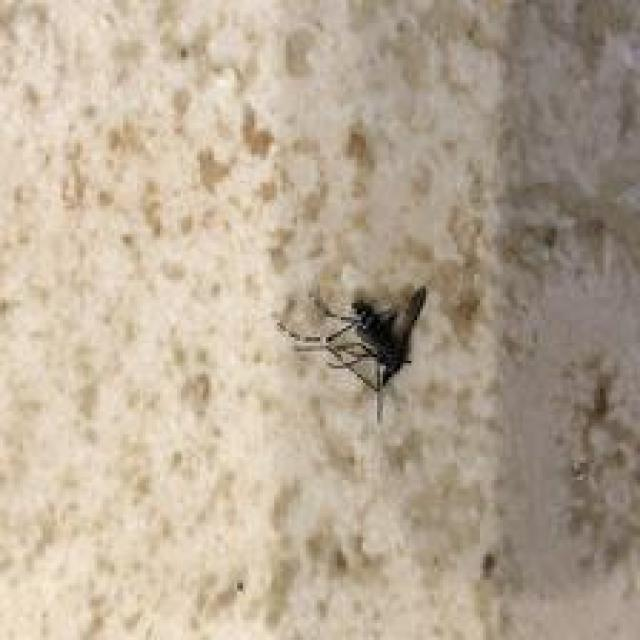Aedes albopictus: (272, 277, 428, 423)
